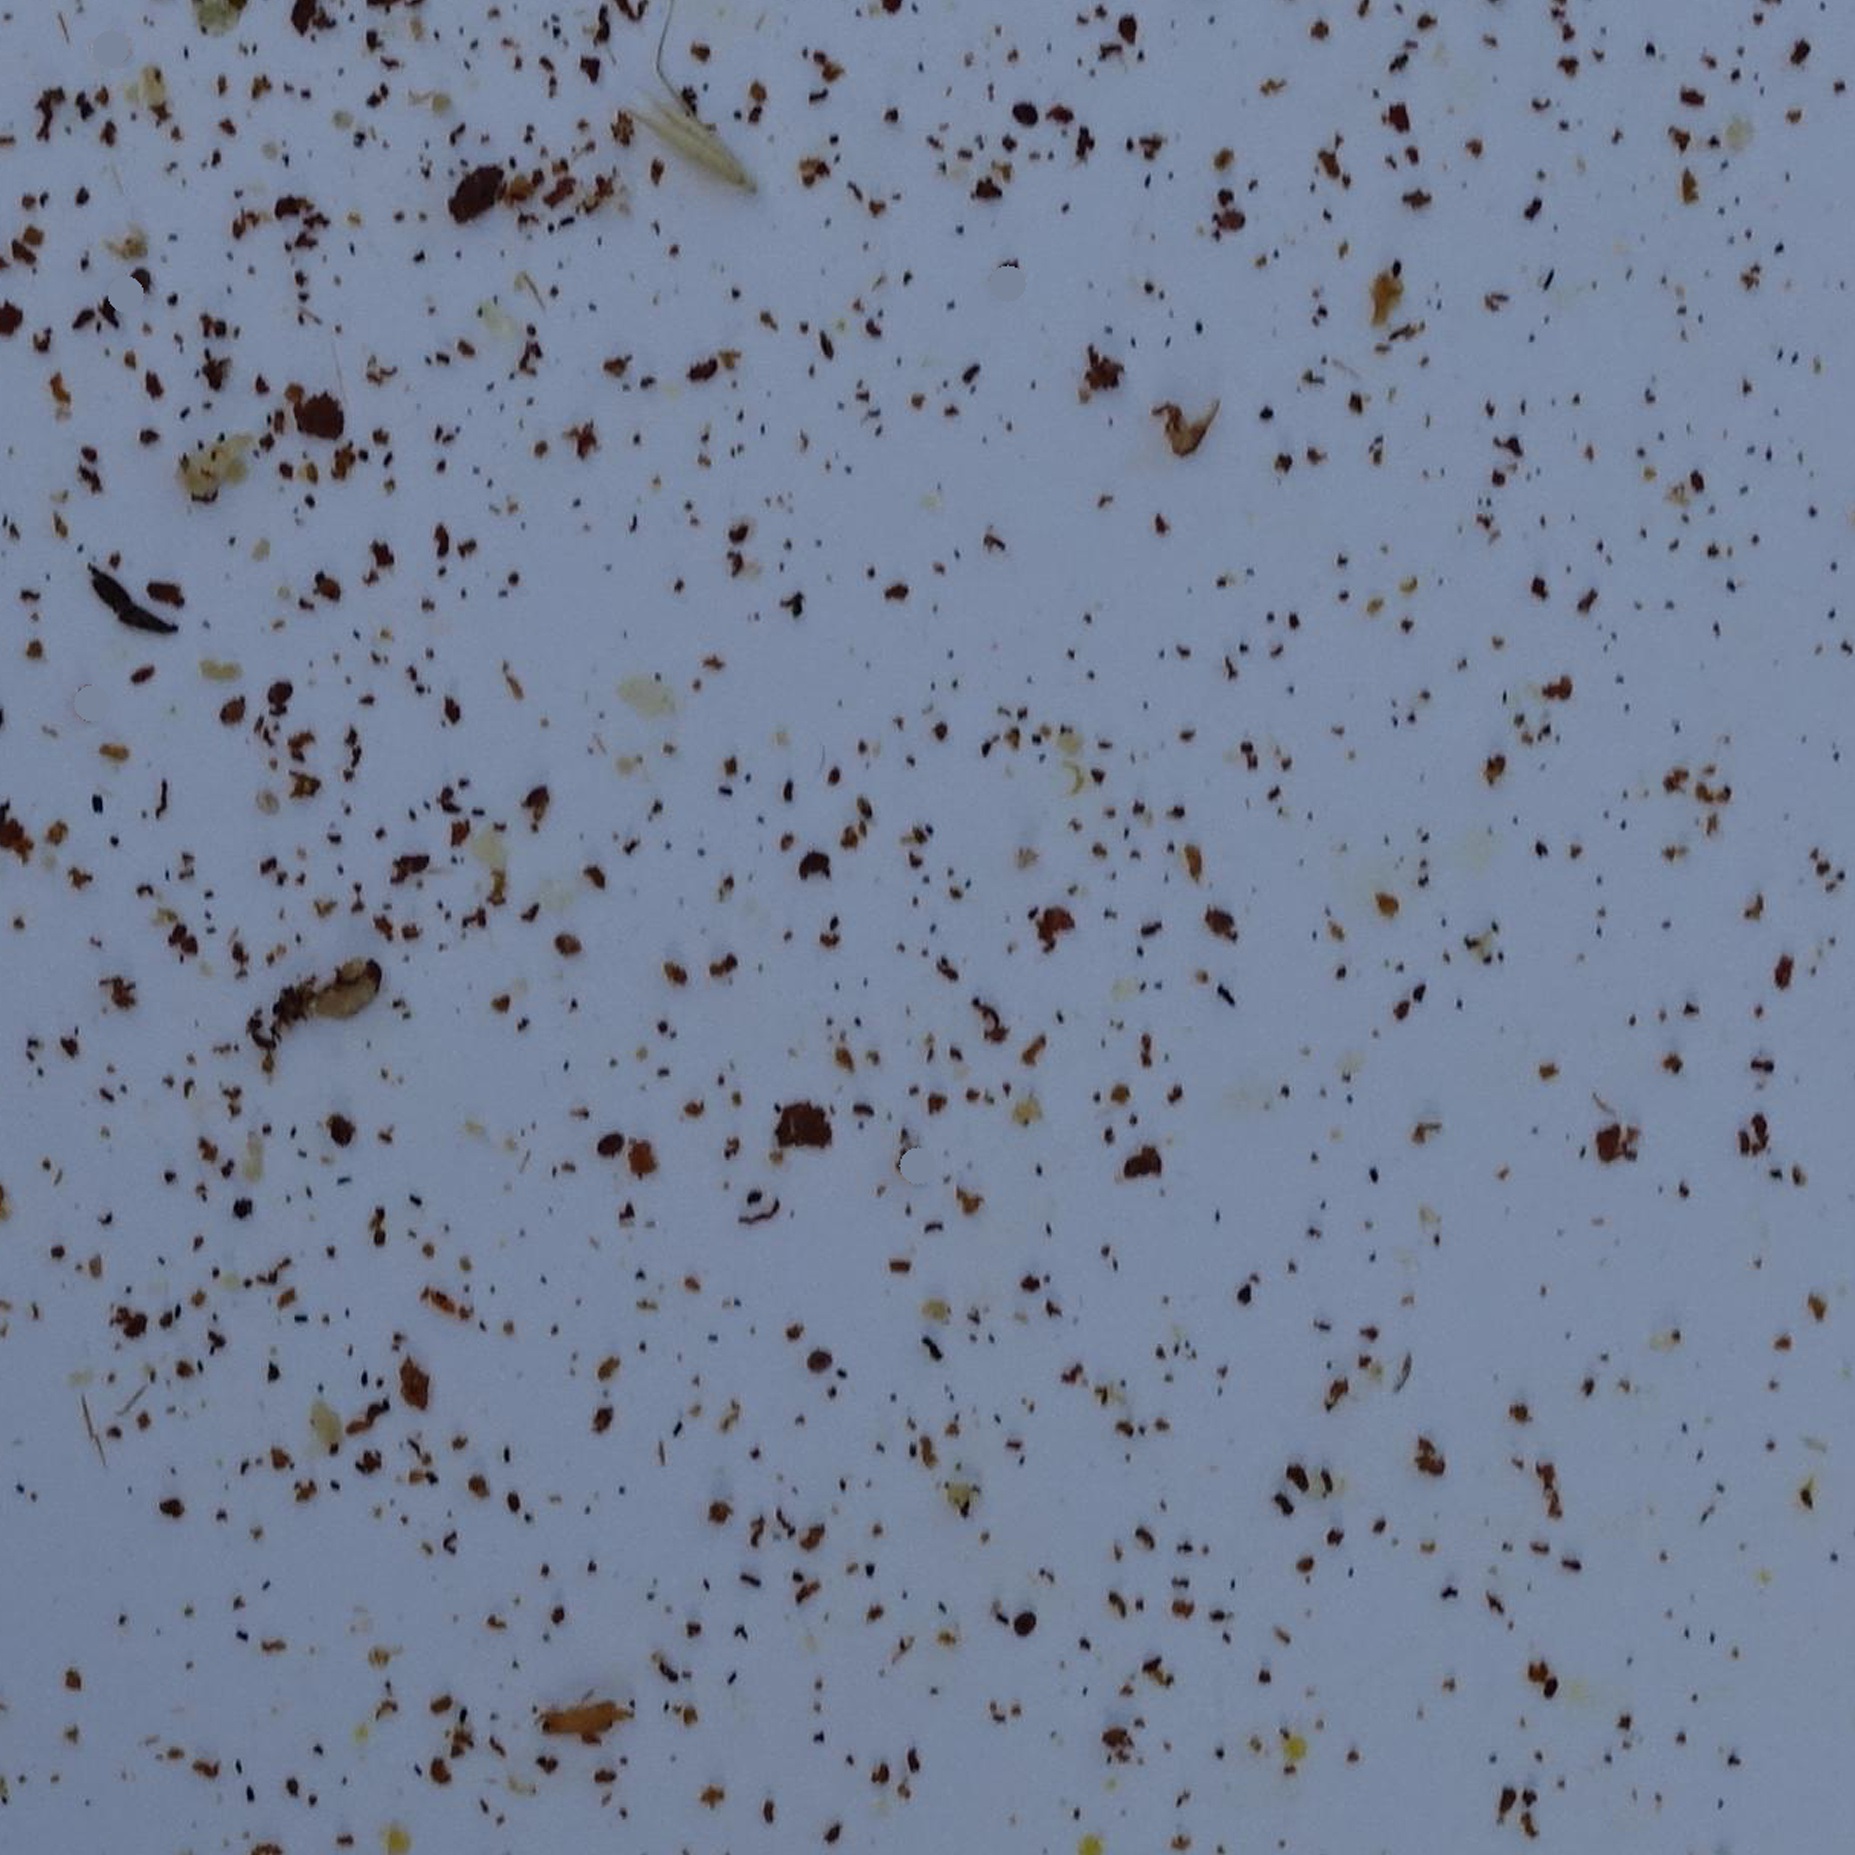Varroa: (1208, 197, 1254, 241), (544, 917, 589, 961), (1196, 895, 1240, 939), (1009, 104, 1045, 143), (260, 678, 294, 715), (596, 1131, 630, 1165), (324, 1118, 358, 1152), (1011, 1605, 1043, 1639), (221, 696, 255, 729), (802, 1349, 832, 1384), (126, 268, 158, 301), (802, 846, 832, 878)
